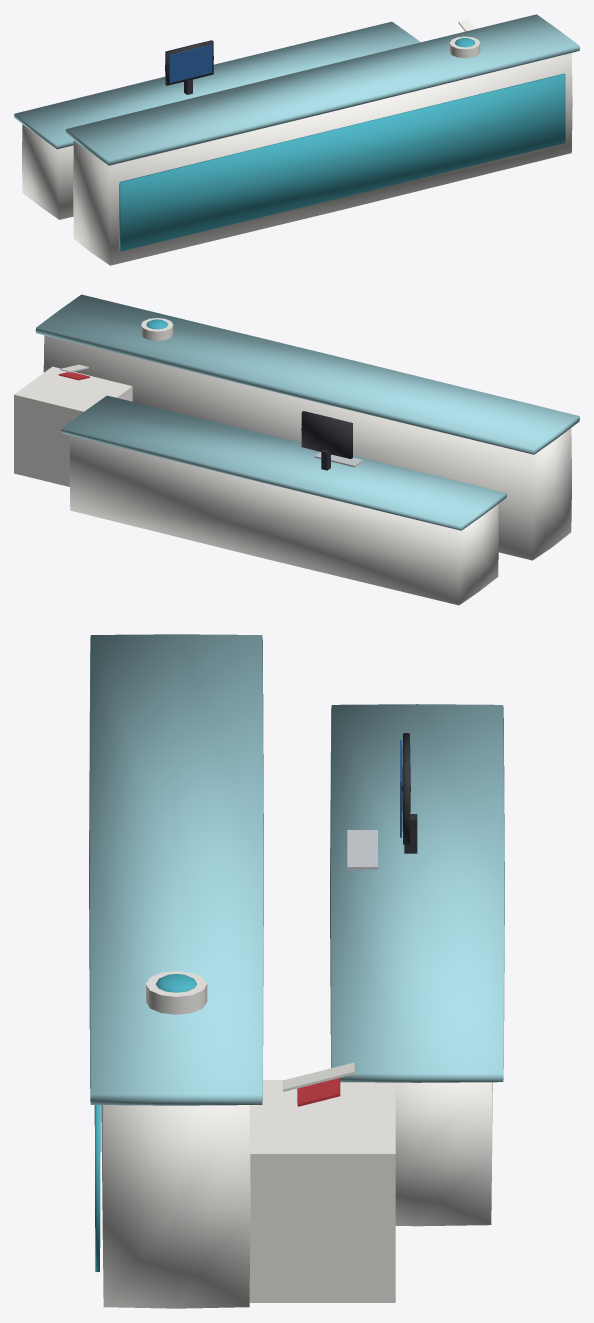
The model's file is reception_desk.glb.
3 views of the same model, one above another, from view 1: azimuth 30°, elevation 25°; view 2: azimuth 150°, elevation 25°; view 3: azimuth 270°, elevation 25° (orthographic). The views are drawn at different scales.
Visible parts, largest first — view 1: root; view 2: root; view 3: root.
Boxes of the visible parts, left/top/right/bottom form: root: left=14, top=14, right=579, bottom=265; root: left=14, top=294, right=579, bottom=605; root: left=89, top=634, right=504, bottom=1308.
Size of the model in its own units: 4.98 by 1.29 by 1.9.
